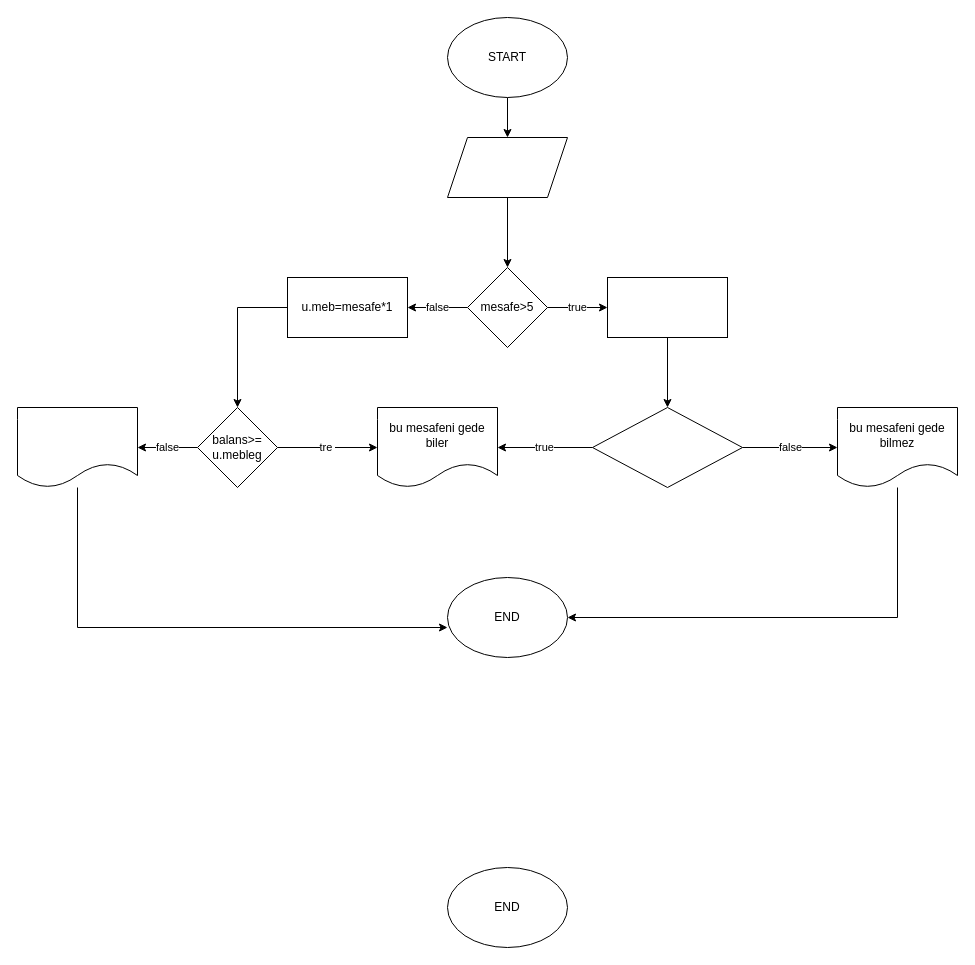
Image size: 975x965. Some labels were removed from this diagram. The box of each missing label's shape, as (x1, y1, x2, y2) in pixels:
Balans: (446, 136, 568, 198)
balans>=u.mebleg: (592, 406, 742, 488)
bu mesafeni gde bilmez: (16, 406, 138, 488)
u/meb=mesafe*0.7: (606, 276, 728, 338)
